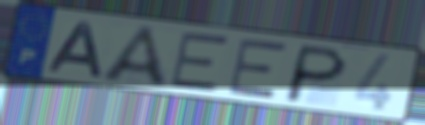4: (351, 51, 395, 114)
A: (98, 23, 172, 91), (45, 21, 106, 80)
E: (226, 38, 289, 101), (168, 31, 231, 94)
P: (281, 42, 352, 105)
